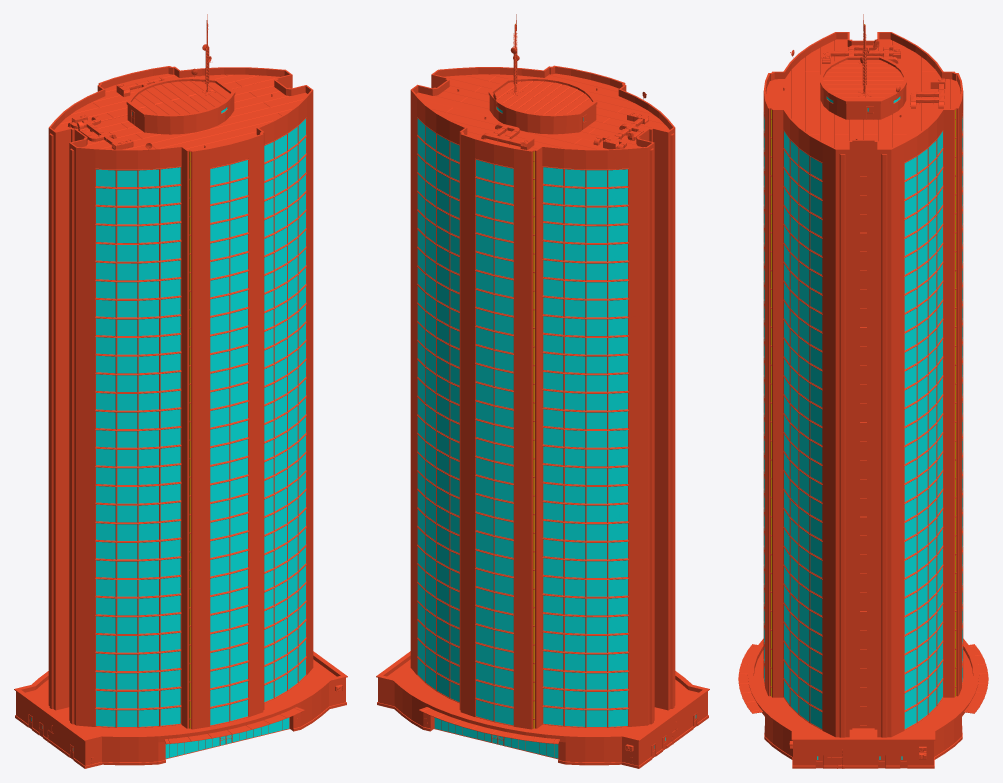
The model's file is SM_Skyscraper_B_City.fbx.
3 views of the same model, side by side, from view 1: azimuth 30°, elevation 25°; view 2: azimuth 150°, elevation 25°; view 3: azimuth 270°, elevation 25° (orthographic).
Visible parts, largest first — view 1: SM_Skyscraper_B_City; view 2: SM_Skyscraper_B_City; view 3: SM_Skyscraper_B_City.
Part boxes in pixels (left/top/right/bottom): SM_Skyscraper_B_City: left=14, top=14, right=347, bottom=768; SM_Skyscraper_B_City: left=376, top=14, right=709, bottom=768; SM_Skyscraper_B_City: left=738, top=14, right=988, bottom=768.
Size of the model in its own units: 44.74 by 111 by 35.95.
